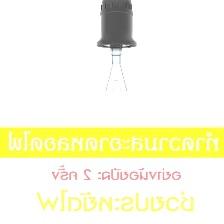light_bulb: (65, 7, 167, 127)
